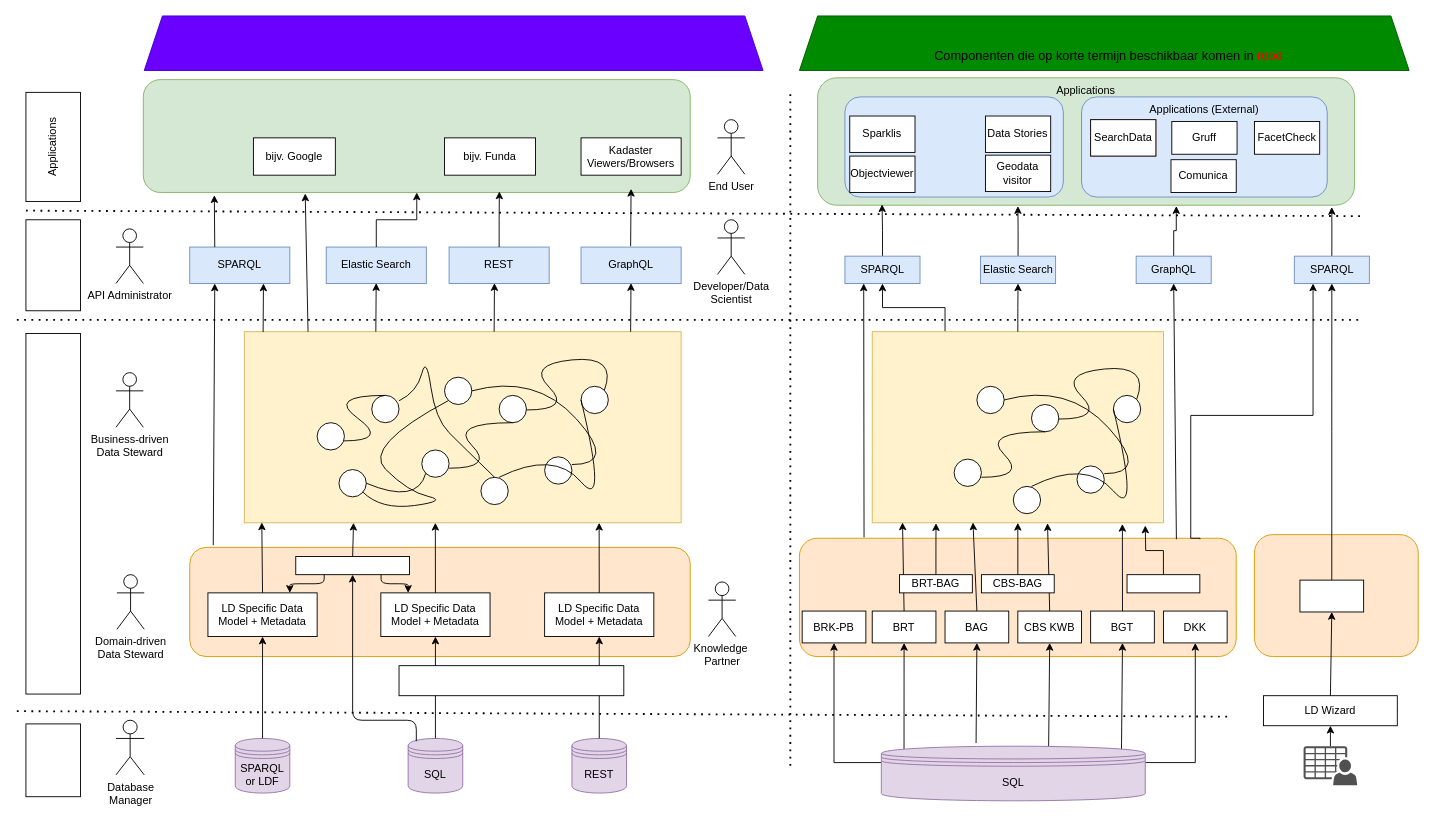
The diagram is 1434 pixels wide and 824 high, and some of its shapes have lost their labels. Each missing label, with the box of its shape:
API's: (25, 219, 81, 311)
Applications (Internal): (844, 96, 1063, 197)
Applications (Internal/External): (142, 79, 690, 192)
Architectuurvisie: (143, 15, 763, 71)
BRK-BAG: (1126, 574, 1200, 593)
CSV: (1303, 746, 1357, 785)
Data: (25, 723, 81, 797)
Gebruiker Data: (1299, 579, 1364, 612)
Huidige status: (799, 15, 1409, 71)
Knowledge Graph: (25, 333, 81, 694)
Knowledge Graph Schema.Org: (871, 331, 1163, 523)
LD Linkset: (295, 556, 410, 575)
Linked Data Generic Data Model(s) + MetaData: (243, 331, 681, 523)
Semantic Schema and Metadata: (398, 665, 624, 696)
